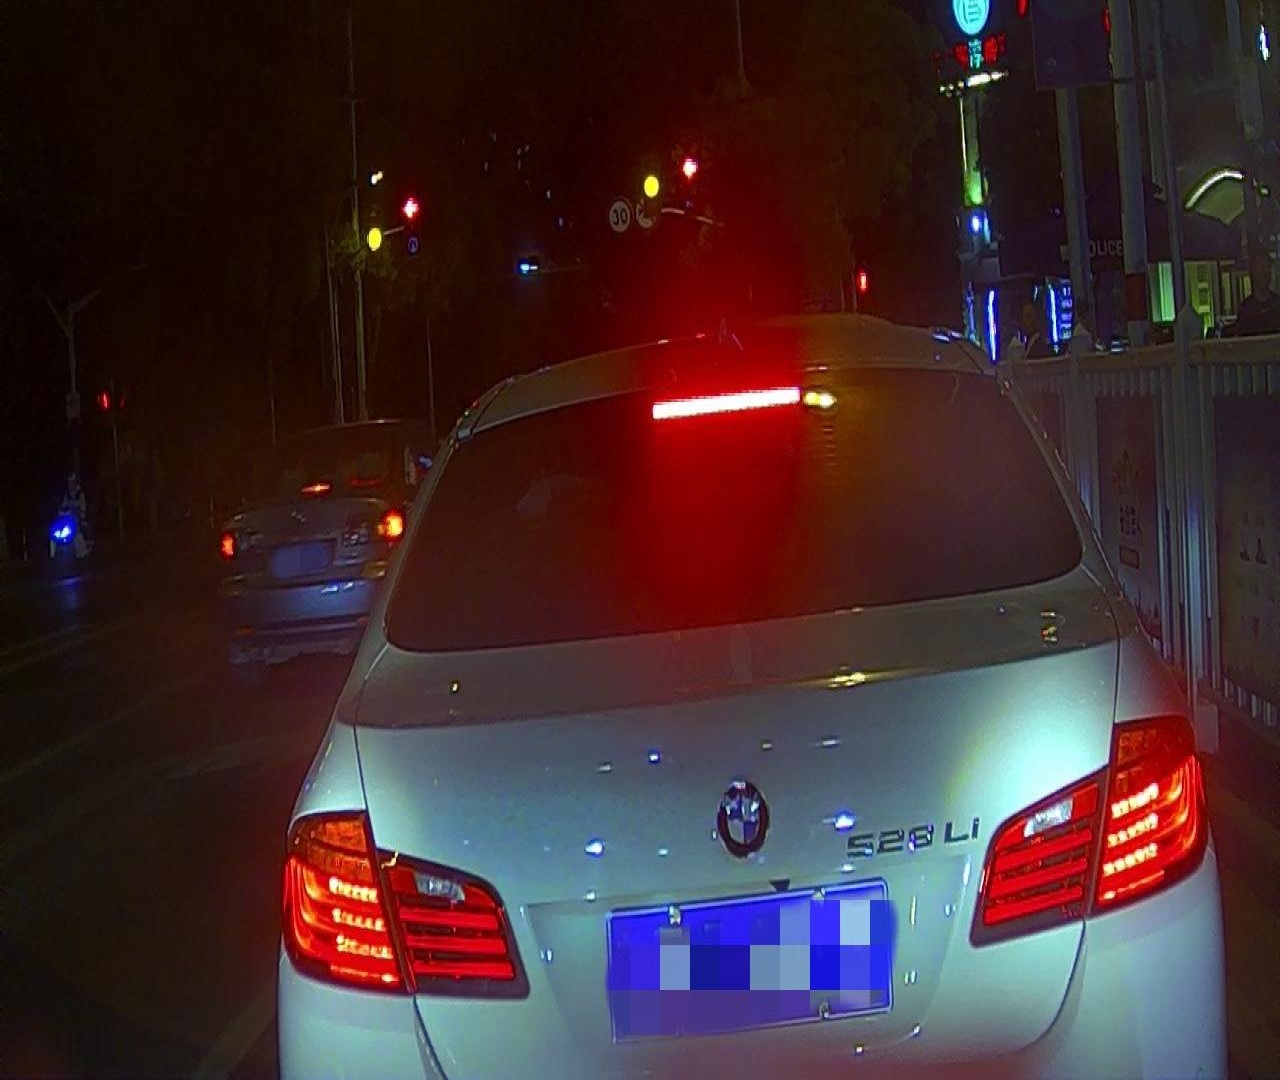red: (400, 187, 424, 225), (678, 150, 701, 184)
yellow: (641, 171, 662, 202), (364, 223, 385, 255)
